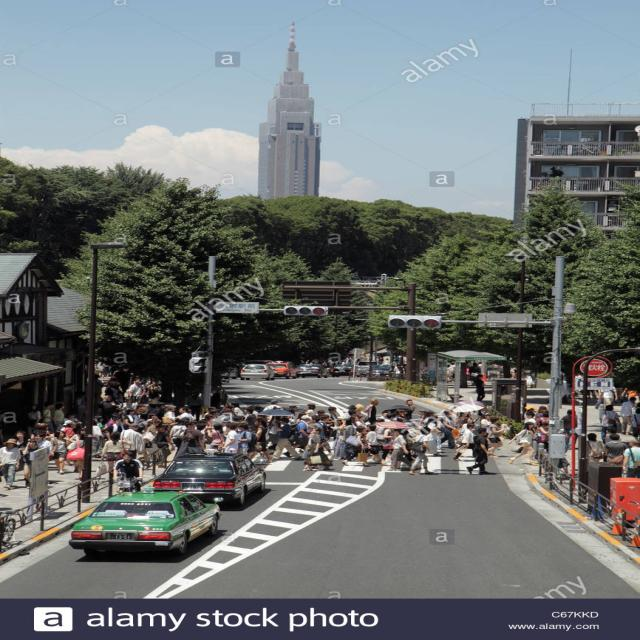body: (162, 406, 491, 448), (270, 354, 536, 386), (93, 363, 163, 439), (95, 431, 134, 482), (506, 421, 540, 466), (465, 427, 495, 475), (339, 425, 373, 467), (282, 415, 314, 458), (271, 417, 302, 461), (408, 426, 435, 476), (301, 430, 333, 472), (385, 428, 415, 472), (111, 452, 144, 492), (246, 417, 274, 463), (509, 412, 538, 454), (302, 426, 328, 469), (0, 437, 21, 490), (118, 422, 147, 460), (48, 430, 72, 475), (152, 422, 175, 468), (21, 438, 40, 489), (598, 404, 622, 444), (434, 410, 458, 450), (486, 415, 508, 458), (96, 393, 123, 428), (452, 423, 476, 461), (66, 432, 85, 480), (362, 424, 384, 463), (602, 433, 628, 465), (558, 409, 578, 450), (235, 422, 259, 455), (621, 438, 640, 478), (13, 430, 31, 472), (339, 418, 356, 462), (183, 422, 207, 453), (617, 396, 636, 435), (329, 417, 347, 457), (84, 420, 105, 454), (557, 430, 573, 474), (161, 404, 180, 441), (534, 422, 552, 461), (31, 430, 54, 460), (168, 419, 190, 449), (585, 432, 606, 463), (220, 423, 240, 454), (89, 420, 105, 458), (207, 423, 227, 453), (168, 422, 188, 452), (127, 377, 147, 404), (26, 403, 42, 436), (103, 376, 121, 405), (597, 386, 618, 410), (52, 402, 66, 438), (41, 401, 56, 434), (92, 374, 105, 411), (363, 398, 380, 423), (630, 402, 640, 441), (473, 373, 486, 403), (309, 415, 324, 439), (105, 418, 129, 433), (59, 413, 83, 428), (620, 382, 640, 399), (124, 408, 138, 430), (176, 406, 194, 423), (402, 400, 417, 420), (243, 406, 258, 426), (61, 421, 78, 438), (262, 399, 283, 412), (631, 408, 640, 438), (228, 401, 246, 416), (421, 410, 436, 428), (460, 417, 474, 435), (93, 416, 109, 431), (324, 406, 338, 421), (536, 410, 549, 426), (534, 406, 550, 419), (480, 412, 493, 428), (456, 412, 468, 429), (582, 390, 602, 400), (303, 403, 317, 417), (468, 362, 482, 373), (147, 380, 163, 389), (111, 411, 123, 422), (466, 410, 476, 422), (524, 404, 536, 412), (306, 424, 318, 431), (321, 359, 328, 370), (208, 409, 218, 416), (377, 356, 384, 365), (341, 359, 347, 369), (384, 358, 391, 365)
